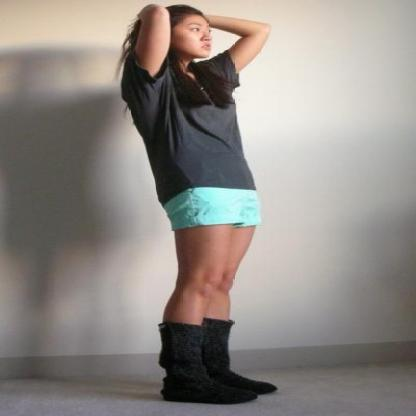shirt: (121, 50, 254, 204)
shoe: (159, 318, 277, 404)
shorts: (162, 187, 258, 230)
